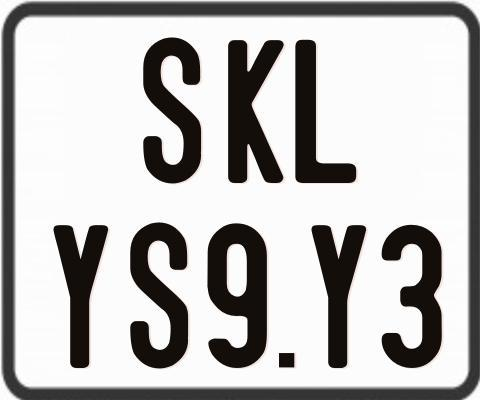3: (380, 223, 443, 367)
9: (204, 220, 265, 368)
K: (226, 38, 287, 184)
L: (293, 37, 360, 182)
S: (128, 220, 191, 370), (140, 35, 201, 182)
Y: (53, 222, 113, 369), (312, 224, 366, 368)
